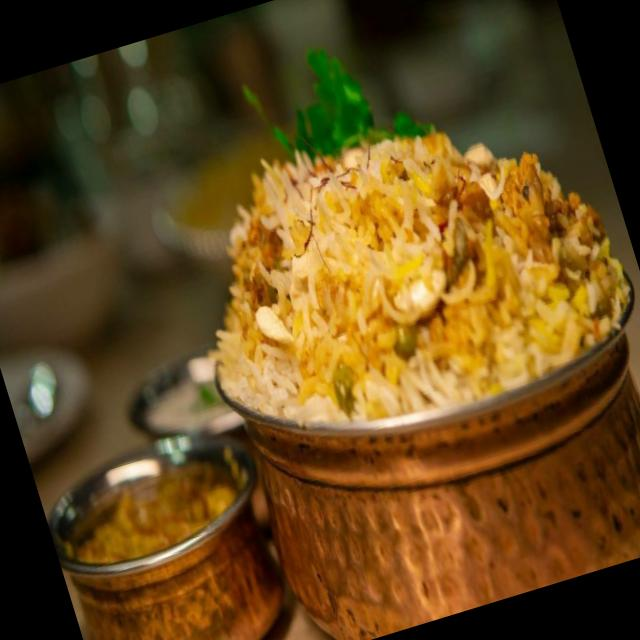Biryani: (158, 65, 640, 474)
